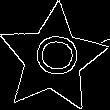O_W: (26, 35, 80, 83)
